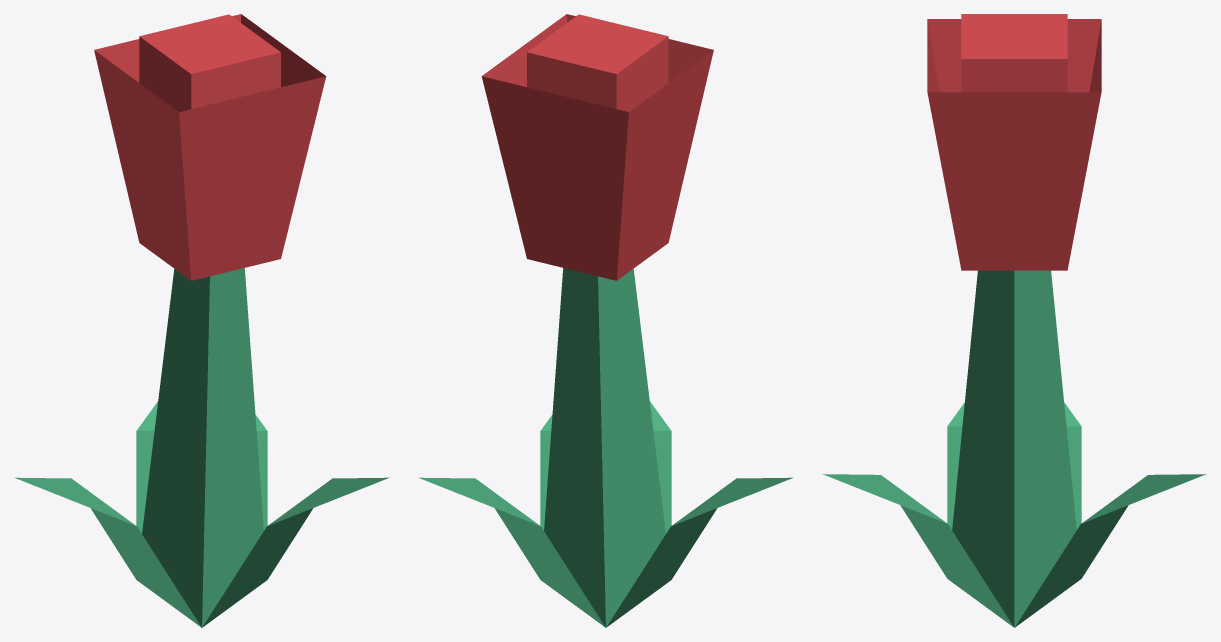
File: flower_red.glb
The picture shows the model from 3 angles, left to right: view 1: azimuth 30°, elevation 25°; view 2: azimuth 150°, elevation 25°; view 3: azimuth 270°, elevation 25°; orthographic projection. The views are drawn at different scales.
Parts seen in each view (by area): view 1: flower_red; view 2: flower_red; view 3: flower_red.
Boxes of the visible parts, box(x1,y1,x2,y2) form: flower_red: box(14, 14, 389, 627); flower_red: box(418, 14, 793, 627); flower_red: box(822, 14, 1206, 627).
Bounding box in the file's own units: 0.1591 × 0.2925 × 0.1811.
